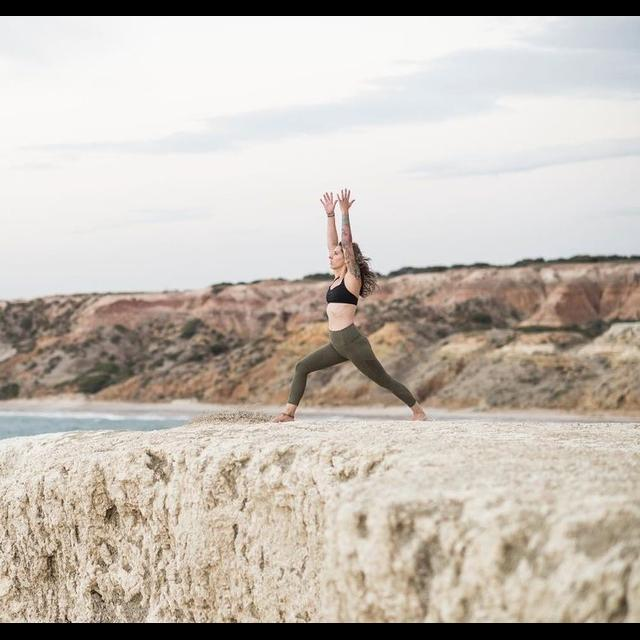Warrior_I: (258, 176, 436, 431)
